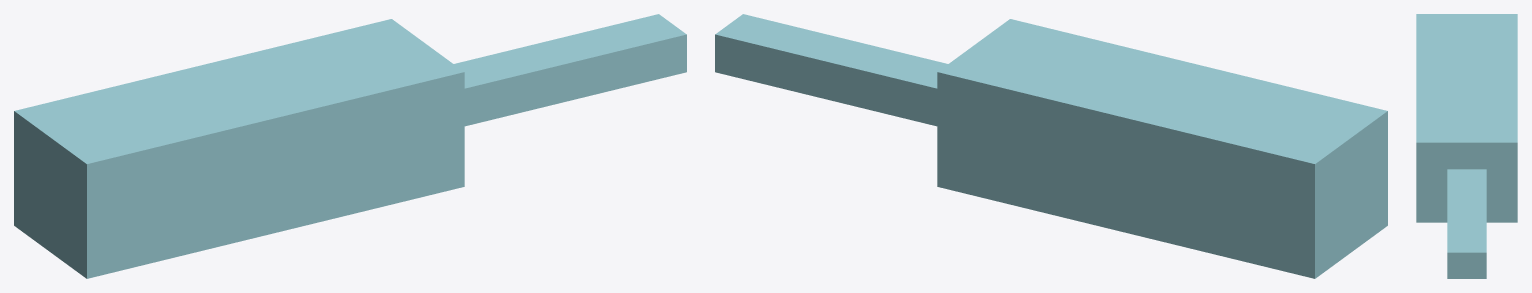
File: cuboid_screwdriver_v2008.obj
The picture shows the model from 3 angles, left to right: view 1: azimuth 30°, elevation 25°; view 2: azimuth 150°, elevation 25°; view 3: azimuth 270°, elevation 25°; orthographic projection. The views are drawn at different scales.
Size of the model in its own units: 0.1816 by 0.032 by 0.0368.
1 material, 1 textured.
